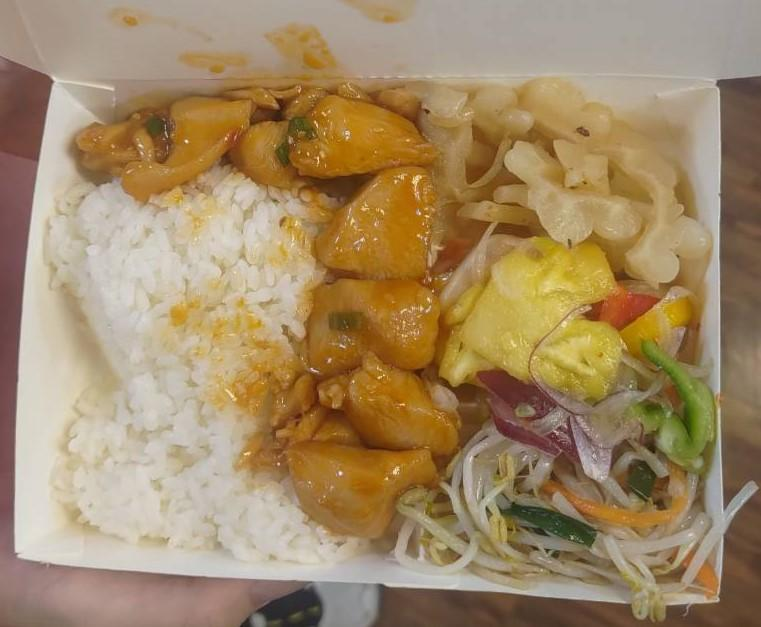big grilled chicken leg: (10, 65, 736, 610)
big herbal chicken leg: (53, 177, 382, 566)
braised fish fillet: (442, 250, 718, 599), (427, 79, 710, 274)
braised pork: (73, 84, 445, 542)
